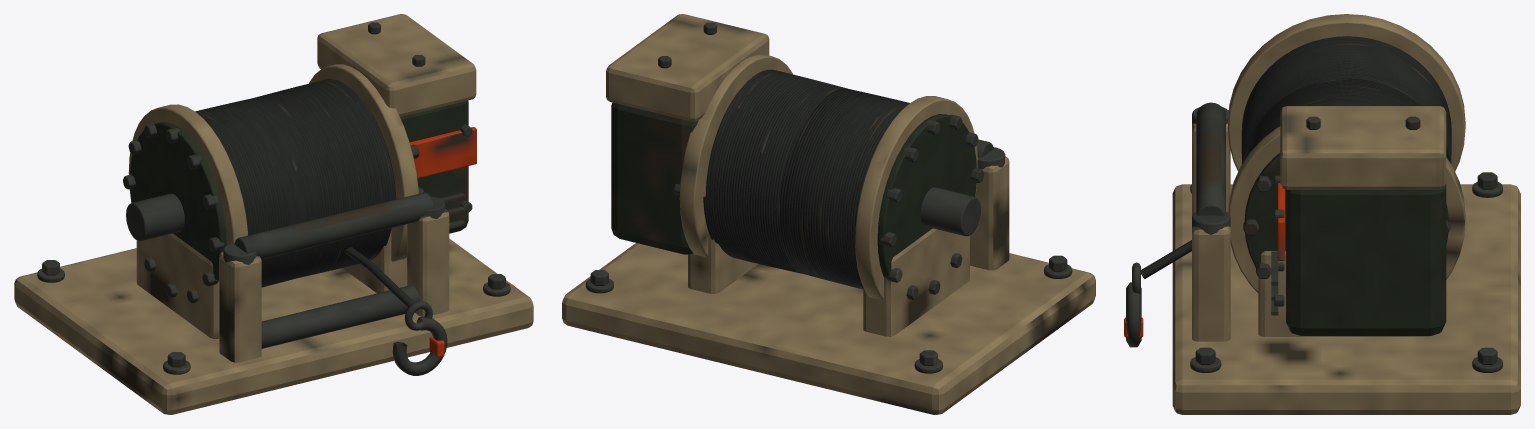
Rendered from 33_powered_winch.glb.
3 renders of one model, left to right at view 1: azimuth 30°, elevation 25°; view 2: azimuth 150°, elevation 25°; view 3: azimuth 270°, elevation 25°, orthographic. The views are drawn at different scales.
Visible parts, largest first — view 1: Fixed_Body; view 2: Fixed_Body; view 3: Fixed_Body.
Part boxes in pixels (x1,y1,x2,y2): Fixed_Body: [14, 14, 533, 414]; Fixed_Body: [562, 14, 1095, 414]; Fixed_Body: [1124, 14, 1520, 414].
Bounding box in the file's own units: 0.87 × 0.538 × 0.7175.
5 materials, 5 textured.
